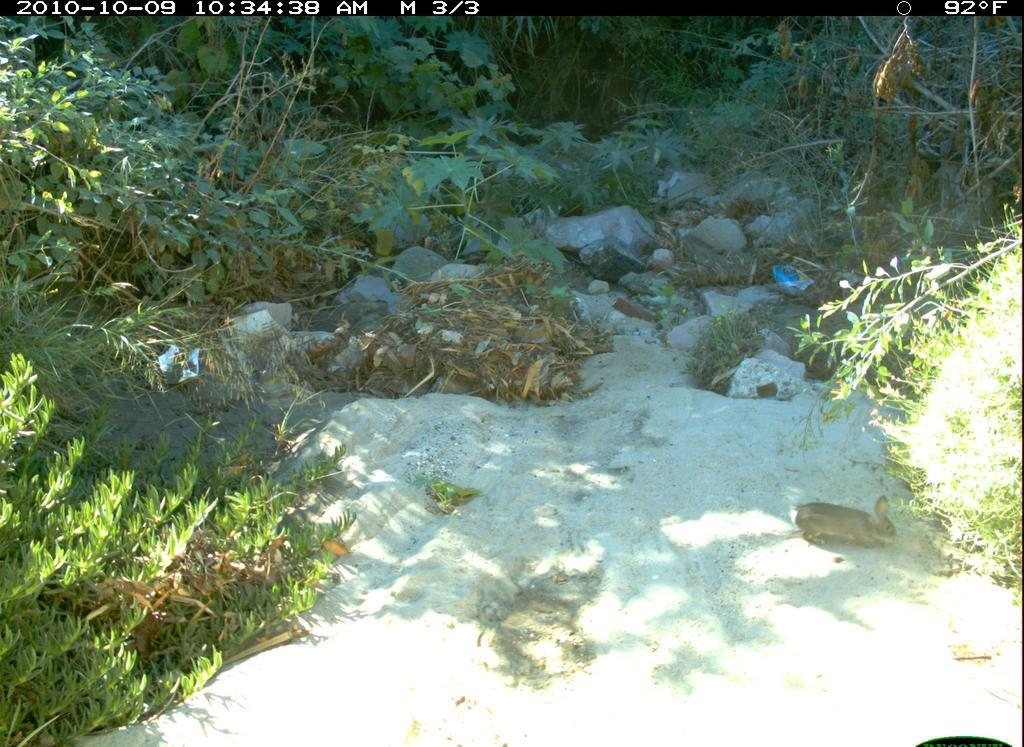rabbit: (781, 477, 911, 574)
